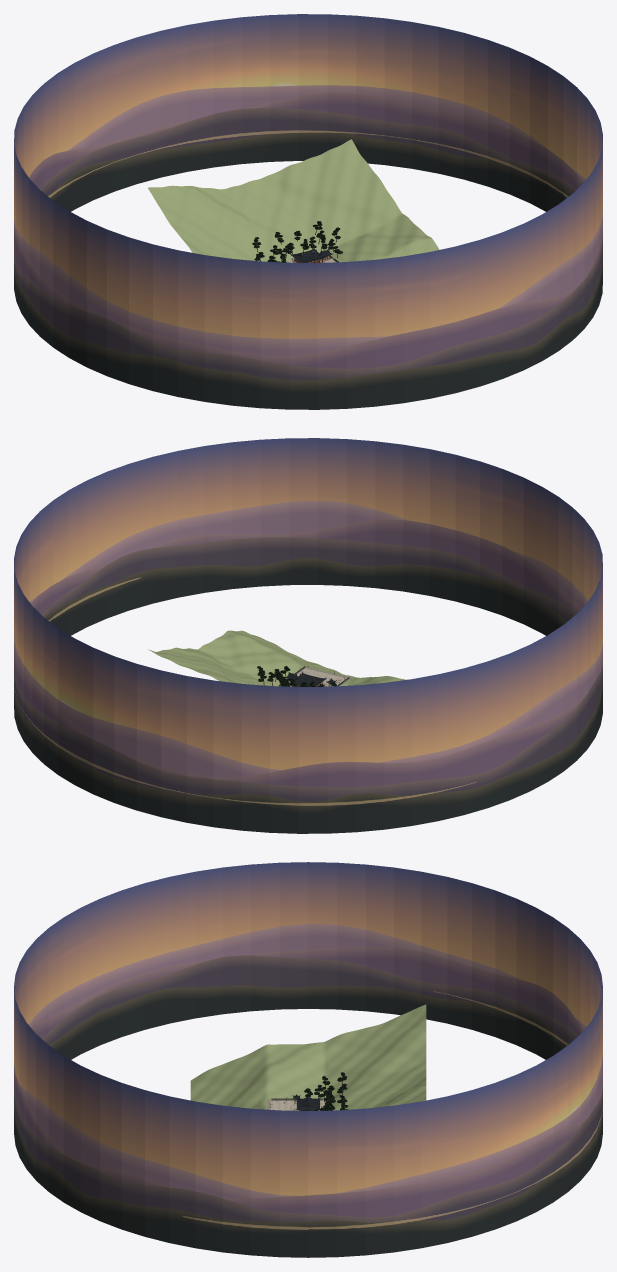
The model's file is mountain_temple_textured.fbx.
3 views of the same model, one above another, from view 1: azimuth 30°, elevation 25°; view 2: azimuth 150°, elevation 25°; view 3: azimuth 270°, elevation 25° (orthographic).
Visible parts, largest first — view 1: Sky_sky, Terrain_ground, Pines_pine; view 2: Sky_sky, Terrain_ground; view 3: Sky_sky, Terrain_ground, Pines_pine.
Boxes of the visible parts, left/top/right/bottom form: Sky_sky: left=14, top=14, right=602, bottom=409; Terrain_ground: left=148, top=139, right=439, bottom=262; Pines_pine: left=252, top=221, right=342, bottom=262; Sky_sky: left=14, top=438, right=602, bottom=833; Terrain_ground: left=148, top=630, right=406, bottom=686; Sky_sky: left=14, top=862, right=602, bottom=1257; Terrain_ground: left=190, top=1004, right=426, bottom=1110; Pines_pine: left=302, top=1072, right=348, bottom=1110.
Bounding box in the file's own units: 60000 × 18503 × 60000.
Materials: 38 (24 with a texture image).
